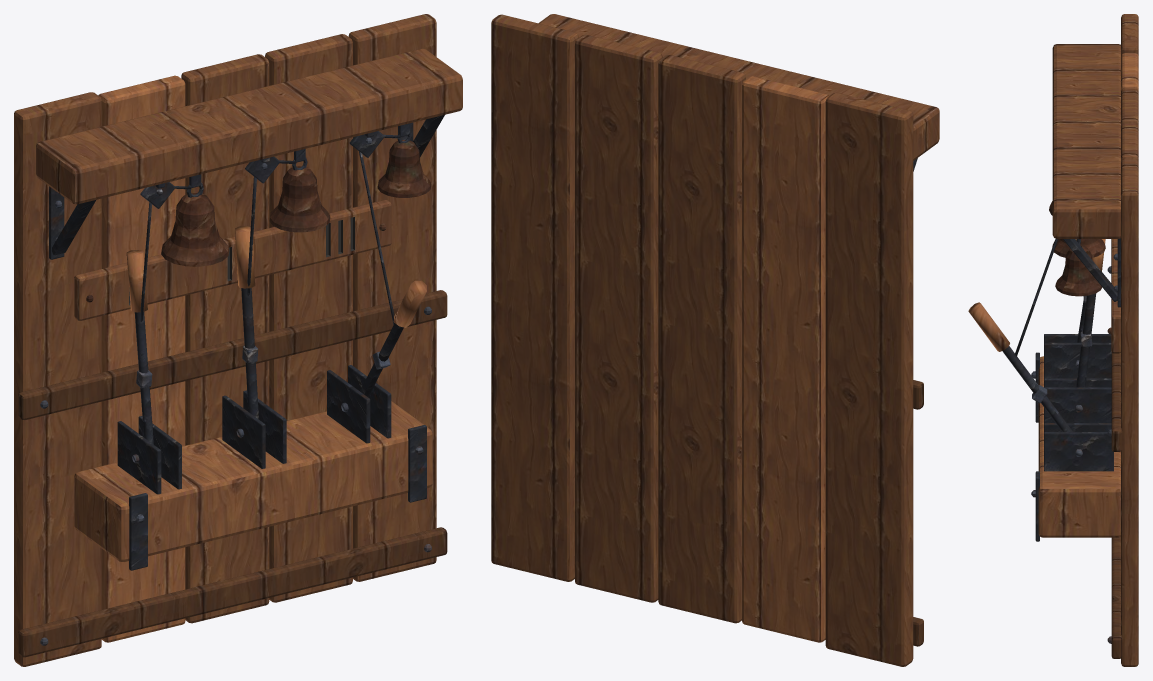
Rendered from hw_signal_lever_wall.glb.
The picture shows the model from 3 angles, left to right: view 1: azimuth 30°, elevation 25°; view 2: azimuth 150°, elevation 25°; view 3: azimuth 270°, elevation 25°; orthographic projection. The views are drawn at different scales.
Parts seen in each view (by area): view 1: model; view 2: model; view 3: model.
Boxes of the visible parts, bbox=[...] form: model: bbox=[14, 14, 462, 666]; model: bbox=[491, 14, 939, 666]; model: bbox=[968, 14, 1138, 666].
Size of the model in its own units: 1.22 by 1.51 by 0.4852.
Materials: 8 (7 with a texture image).
